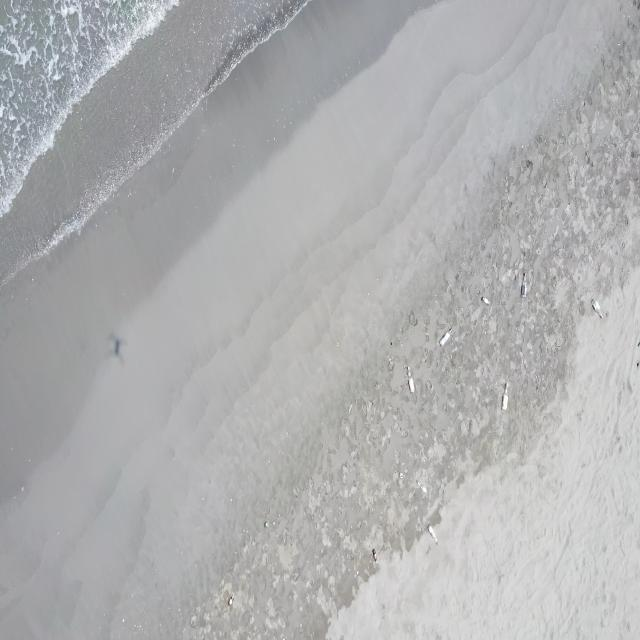glass: (500, 382, 510, 412), (407, 365, 416, 395), (439, 328, 453, 347), (428, 524, 440, 546), (593, 299, 603, 320), (521, 272, 528, 299), (416, 480, 428, 495), (481, 296, 491, 305), (372, 549, 378, 564), (228, 595, 234, 606), (398, 472, 406, 479), (264, 521, 268, 530)
